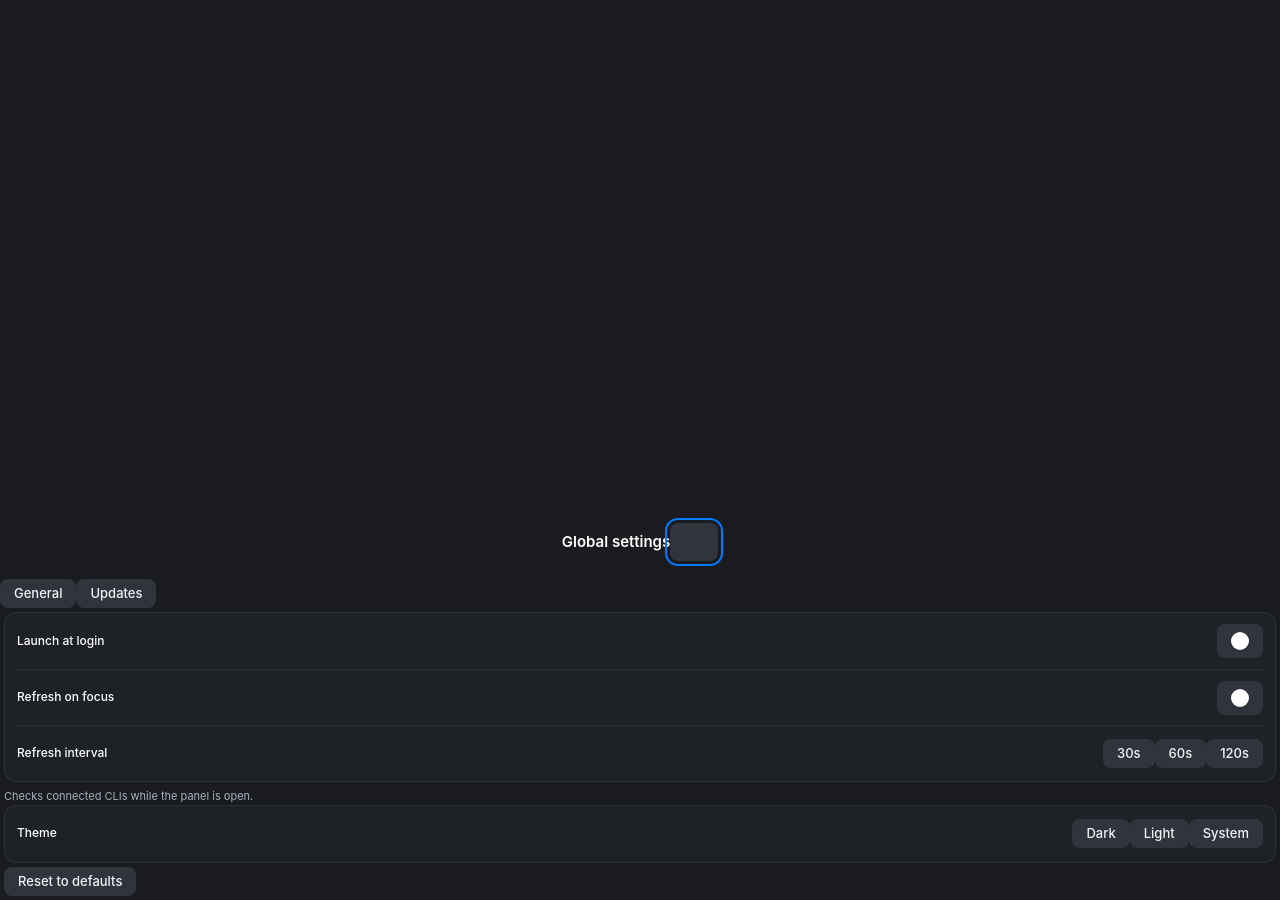
SettingsModal updates › surfaces check failures inline
The width and height of the screenshot is (1280, 900).
(page scrolled)
Click the tab "Updates" at (116, 594), box left=76, top=579, right=156, bottom=608
(page scrolled)
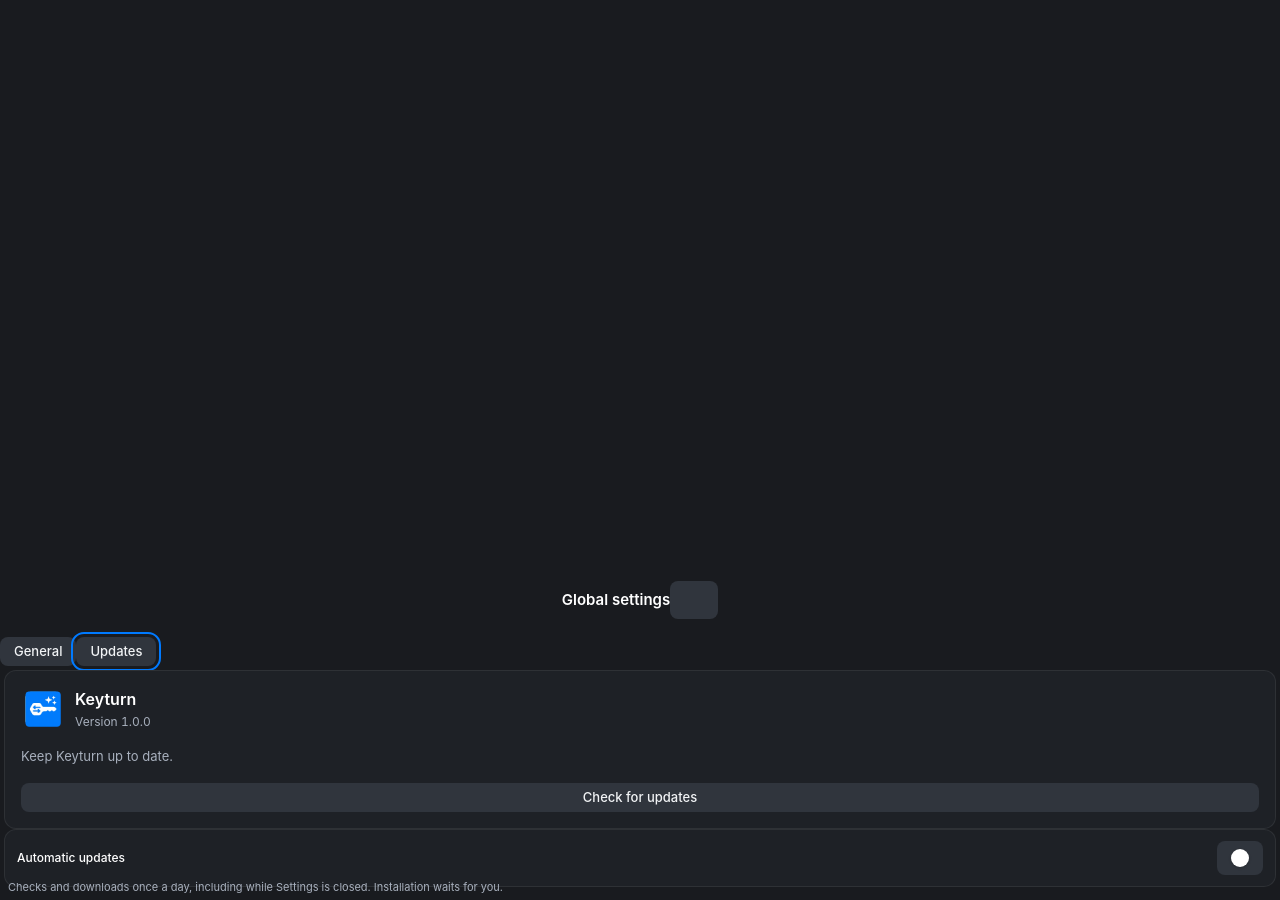
Click the button "Check for updates" at (640, 798), box left=21, top=783, right=1259, bottom=812
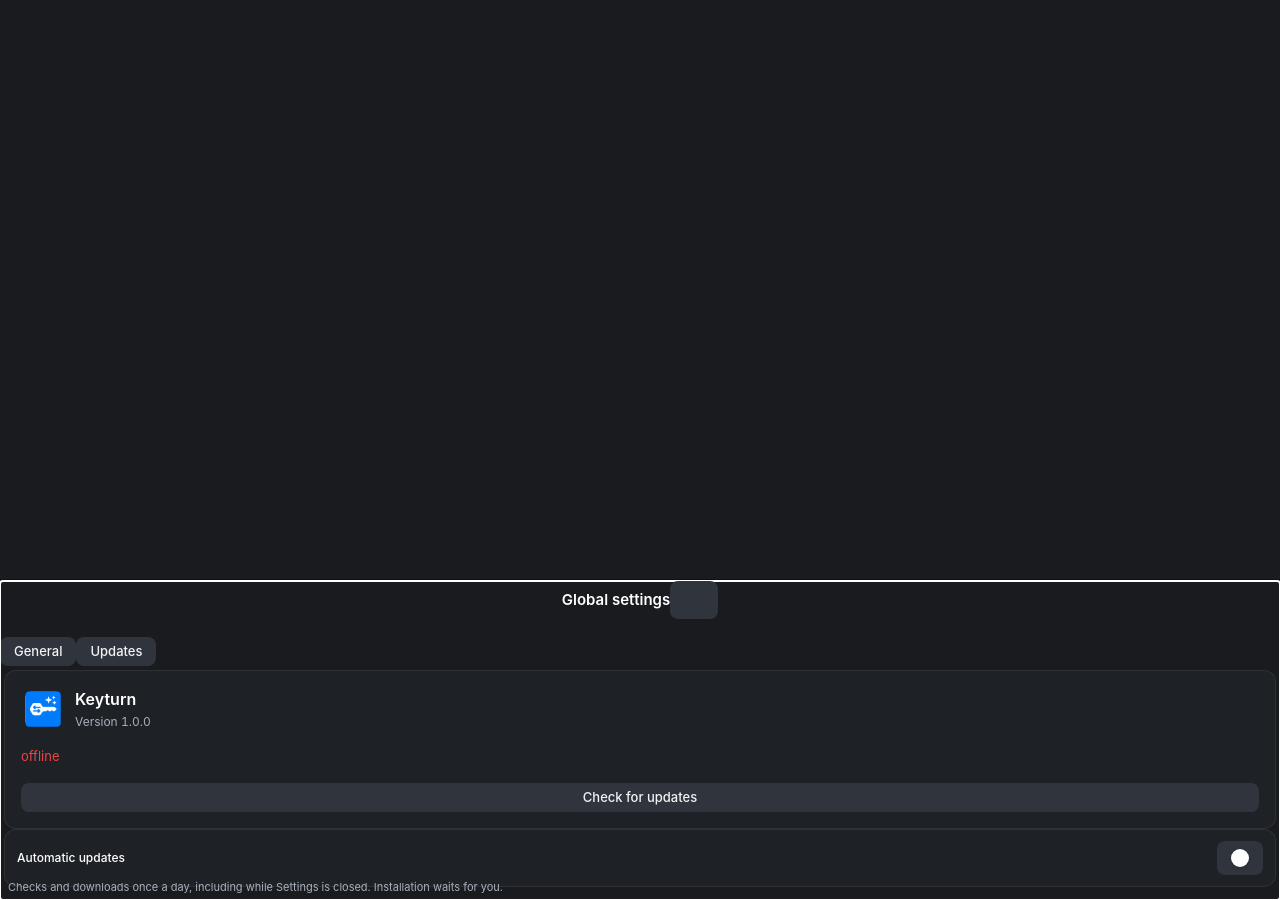
Result: the text "offline" is shown at left=21, top=747, right=60, bottom=767
